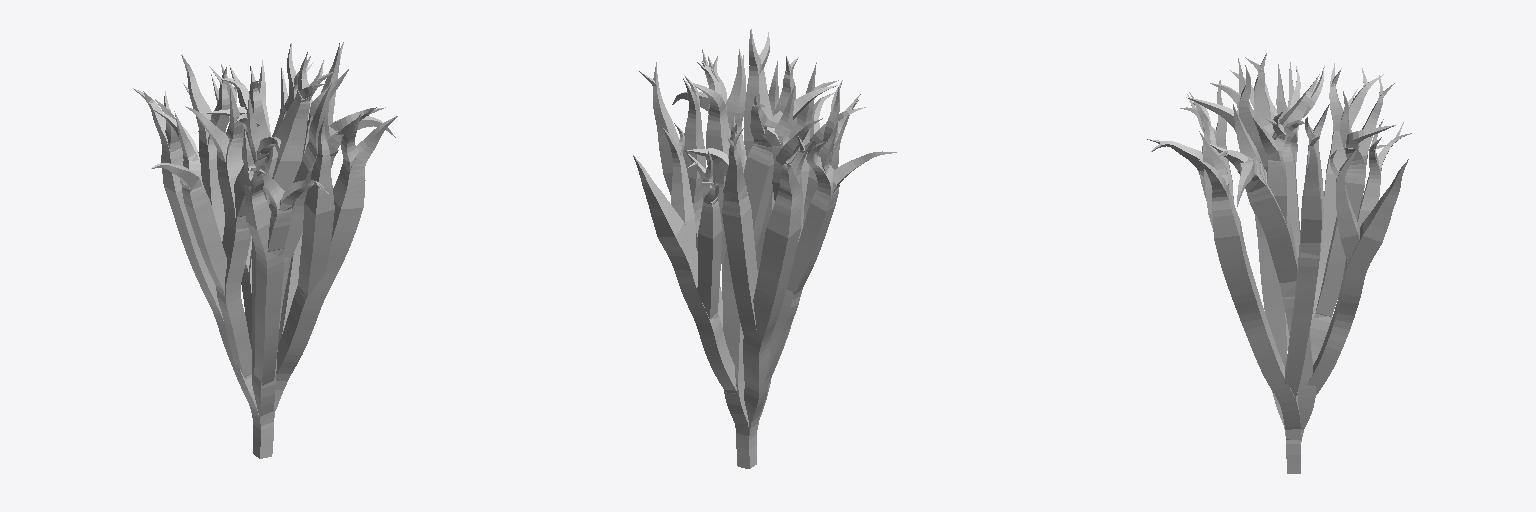
File: bendytree_000001.obj
The picture shows the model from 3 angles: view 1: azimuth 30°, elevation 25°; view 2: azimuth 150°, elevation 25°; view 3: azimuth 270°, elevation 25°; orthographic projection.
Visible parts, largest first — view 1: treemesh_treemesh.001; view 2: treemesh_treemesh.001; view 3: treemesh_treemesh.001.
Boxes of the visible parts, x1=… form: treemesh_treemesh.001: x1=133, y1=42, x2=397, y2=458; treemesh_treemesh.001: x1=633, y1=29, x2=896, y2=468; treemesh_treemesh.001: x1=1147, y1=53, x2=1411, y2=473.
Bounding box in the file's own units: 3.87 × 6.51 × 3.79.